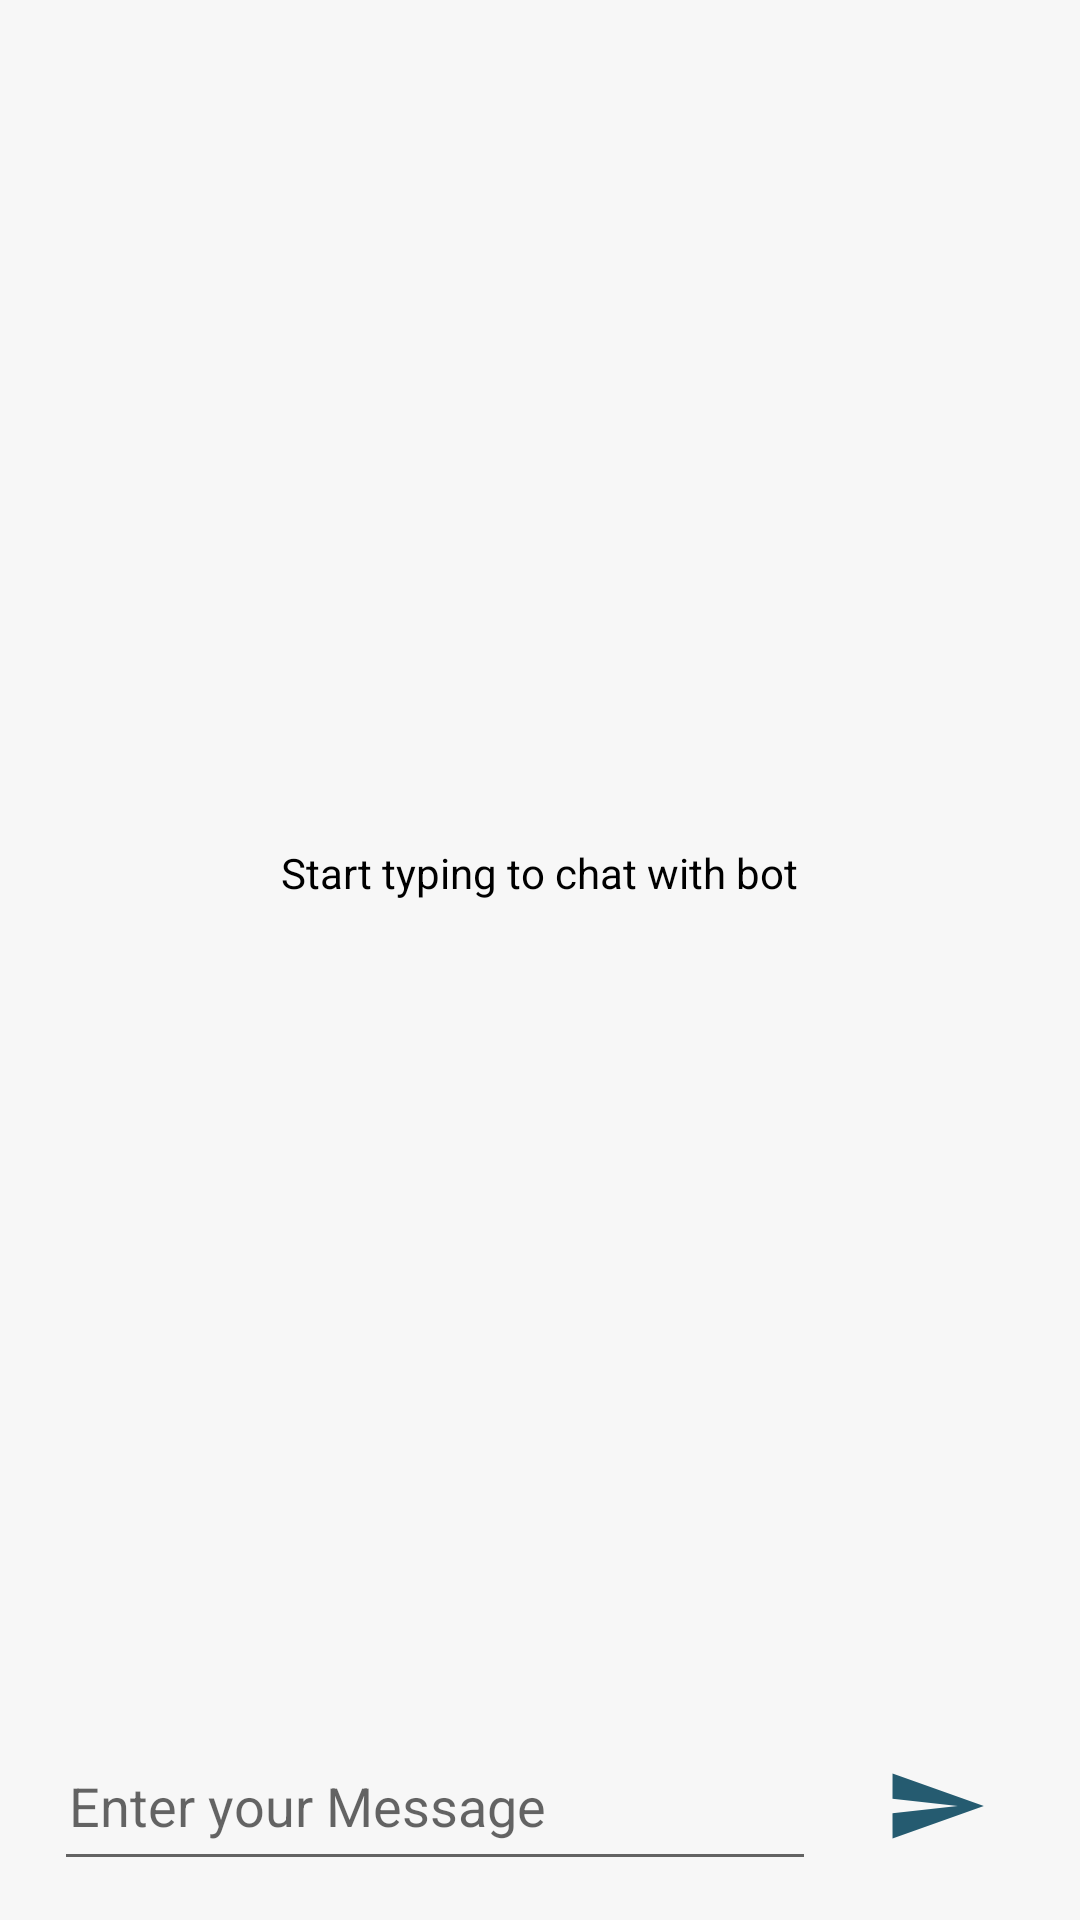

Where icons sit on this 1080w x 1920h app screen, as (x1, y1, x2, y2):
send arrow: (892, 1773, 984, 1839)
